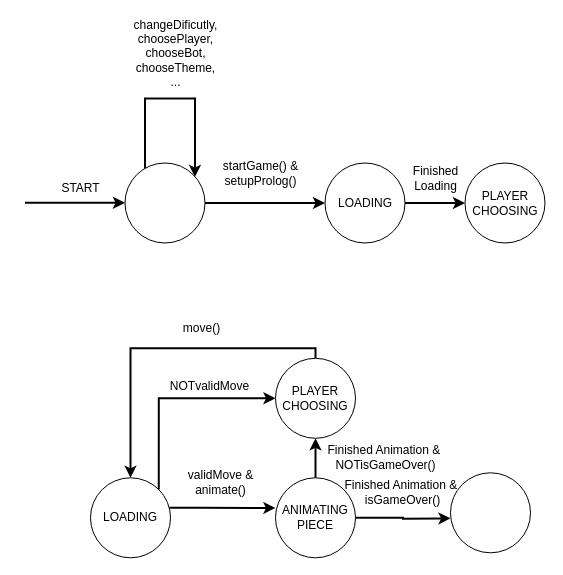
This 563x575 diagram has some shape labels left out. The shapes that lost their labels are listed below. From the top down, each one's centre as x and y in pixels, then its label:
the point at 164,202: MENU
the point at 490,512: GAME OVER
